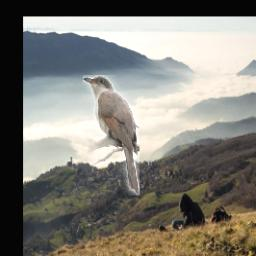Cuckoo: (82, 76, 139, 196)
